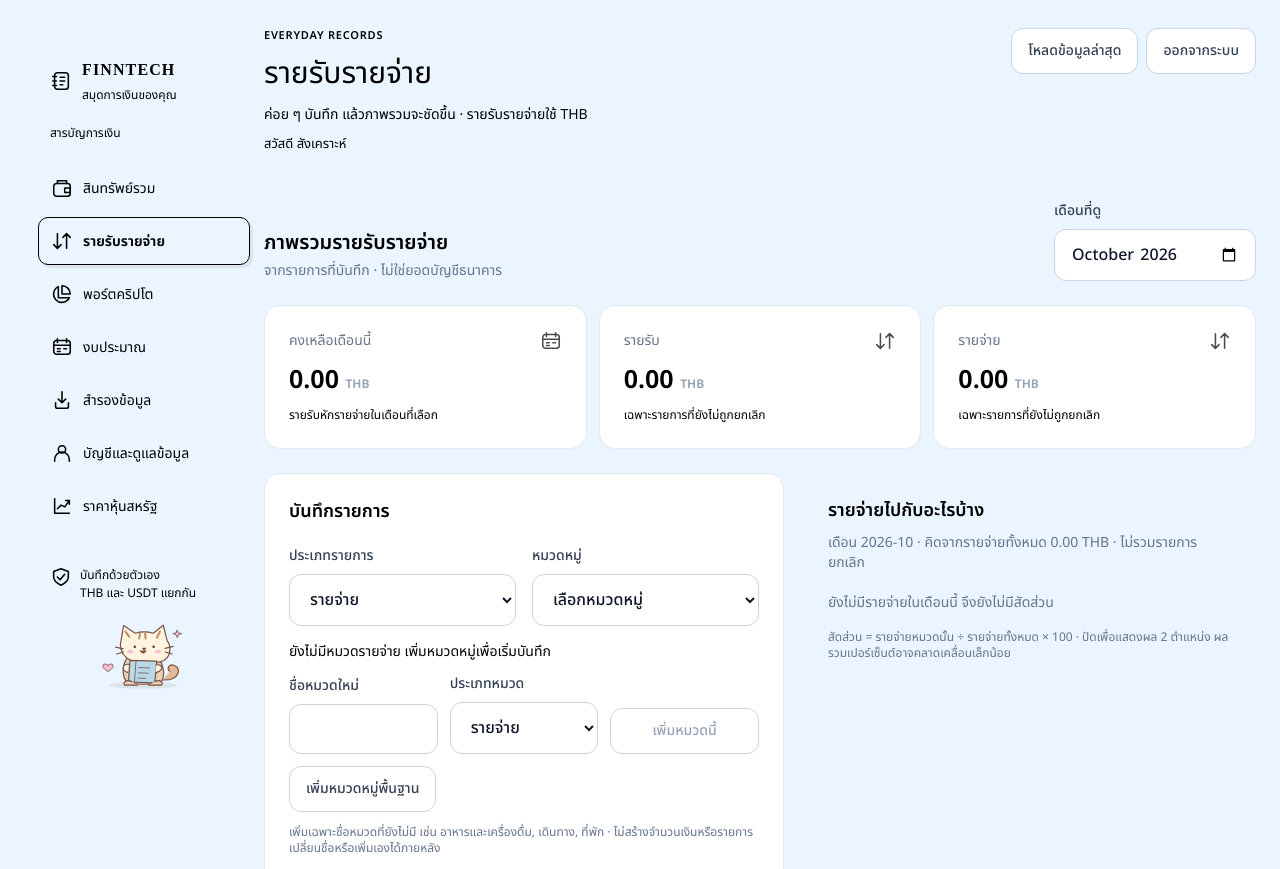
Test: F3 category setup keeps the transaction draft › adds starter labels through one owner write and creates no transaction
The width and height of the screenshot is (1280, 869).
Click the button "เพิ่มหมวดหมู่พื้นฐาน": (363, 788) [289,766,436,812]
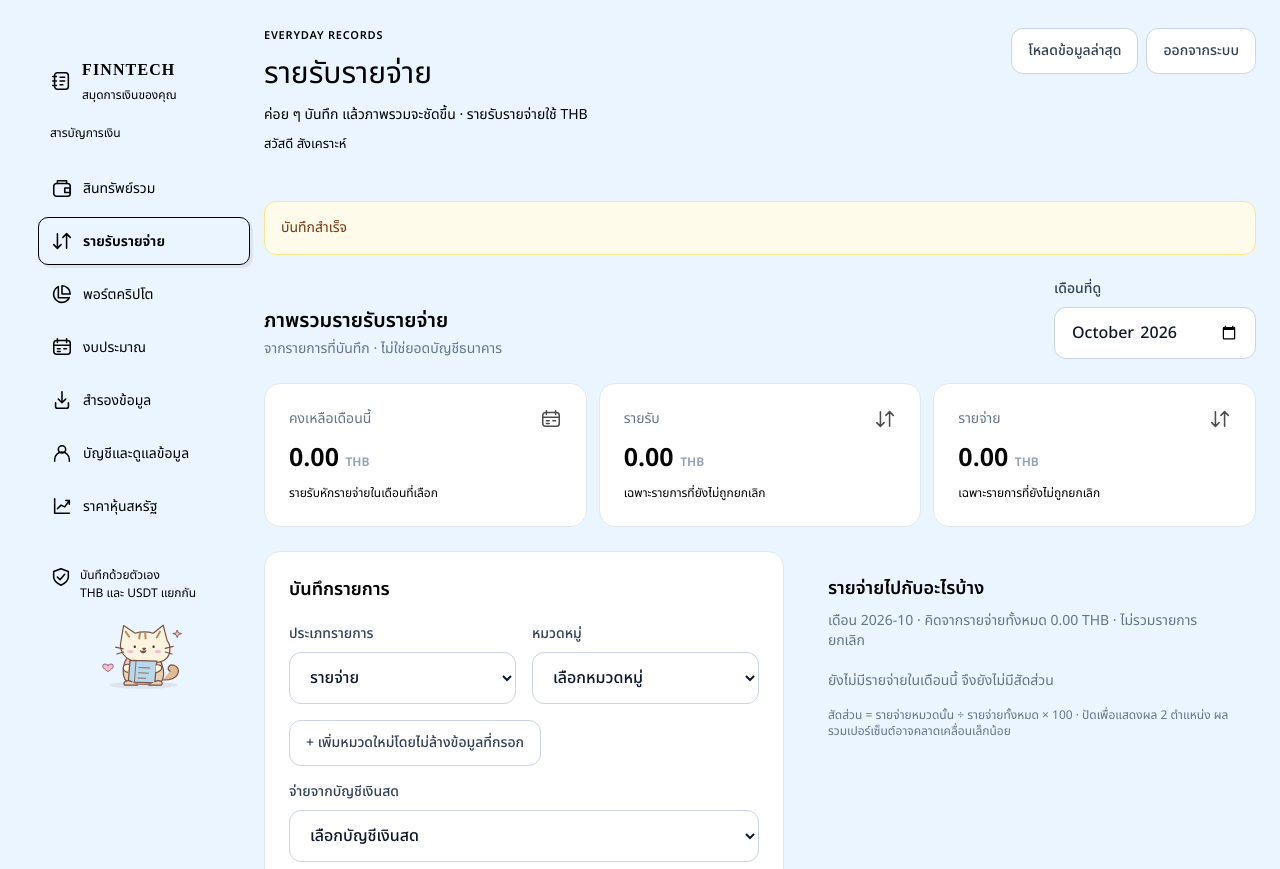
Expected: the text "บันทึกสำเร็จ" is shown, [264,200,1256,254]
